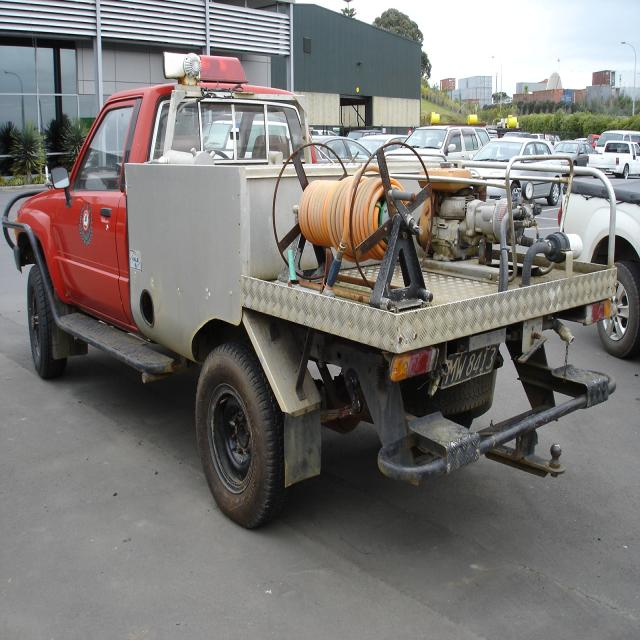light_vehicle: (3, 45, 626, 546)
